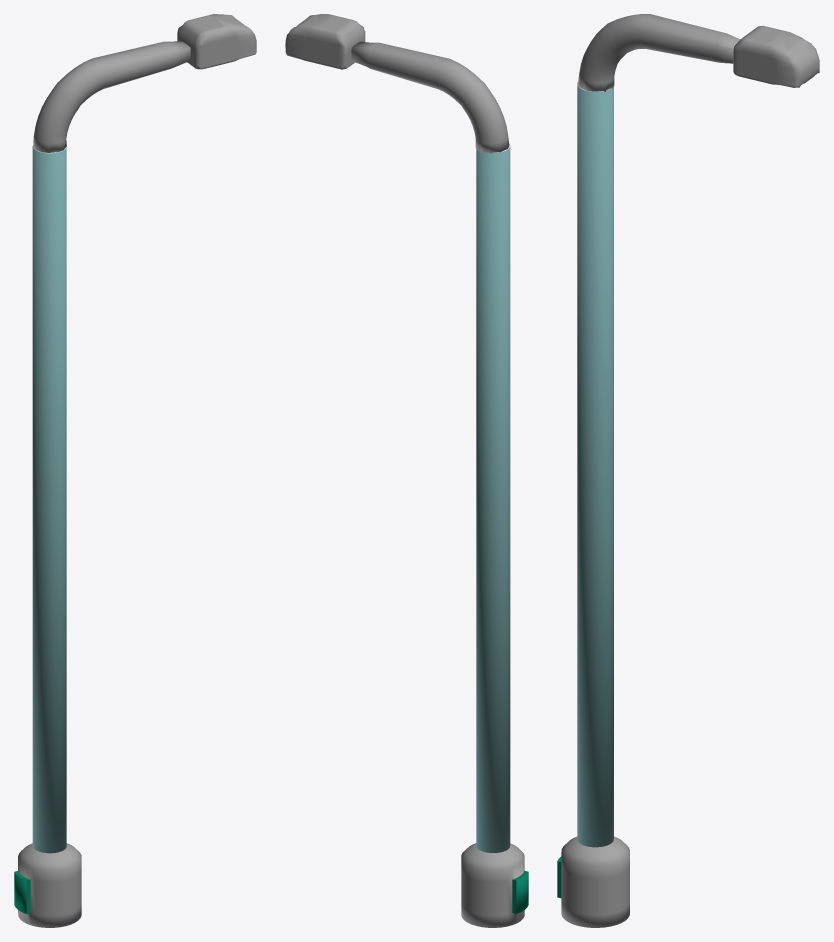
The model's file is lamppost.fbx.
3 views of the same model, side by side, from view 1: azimuth 30°, elevation 25°; view 2: azimuth 150°, elevation 25°; view 3: azimuth 330°, elevation 25° (orthographic). The views are drawn at different scales.
Parts seen in each view (by area): view 1: Cube; view 2: Cube; view 3: Cube.
Part boxes in pixels (box(x1,y1,x2,y2)): Cube: box(14, 14, 256, 927); Cube: box(285, 14, 528, 927); Cube: box(557, 14, 819, 927).
Bounding box in the file's own units: 179 × 631 × 42.71.
